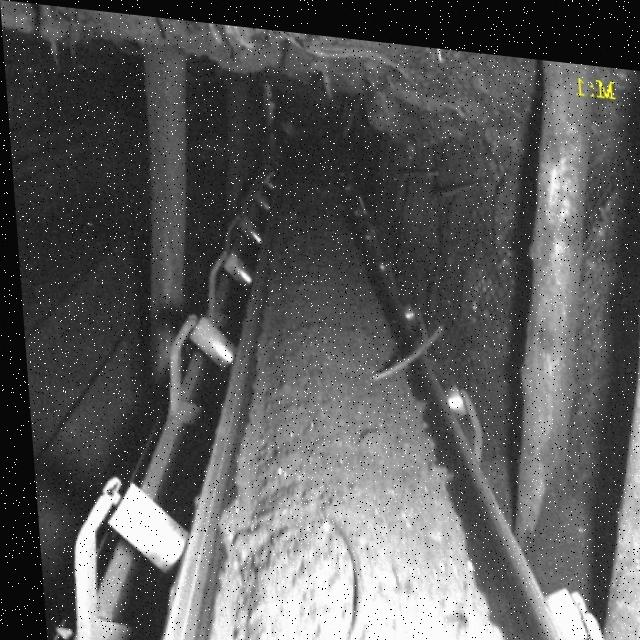bolt: (312, 506, 367, 640), (355, 307, 445, 383)
